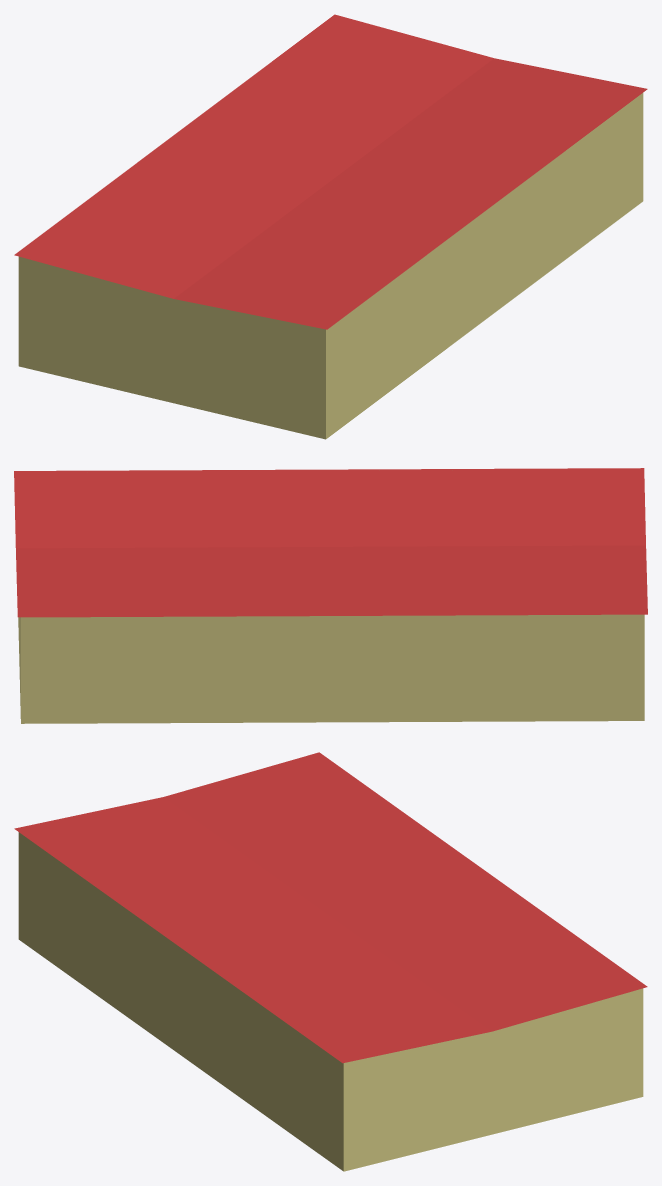
The picture shows the model from 3 angles, top to bottom: view 1: azimuth 30°, elevation 25°; view 2: azimuth 150°, elevation 25°; view 3: azimuth 270°, elevation 25°; orthographic projection. The views are drawn at different scales.
Bounding box in the file's own units: 55.39 × 47.71 × 9.16.
